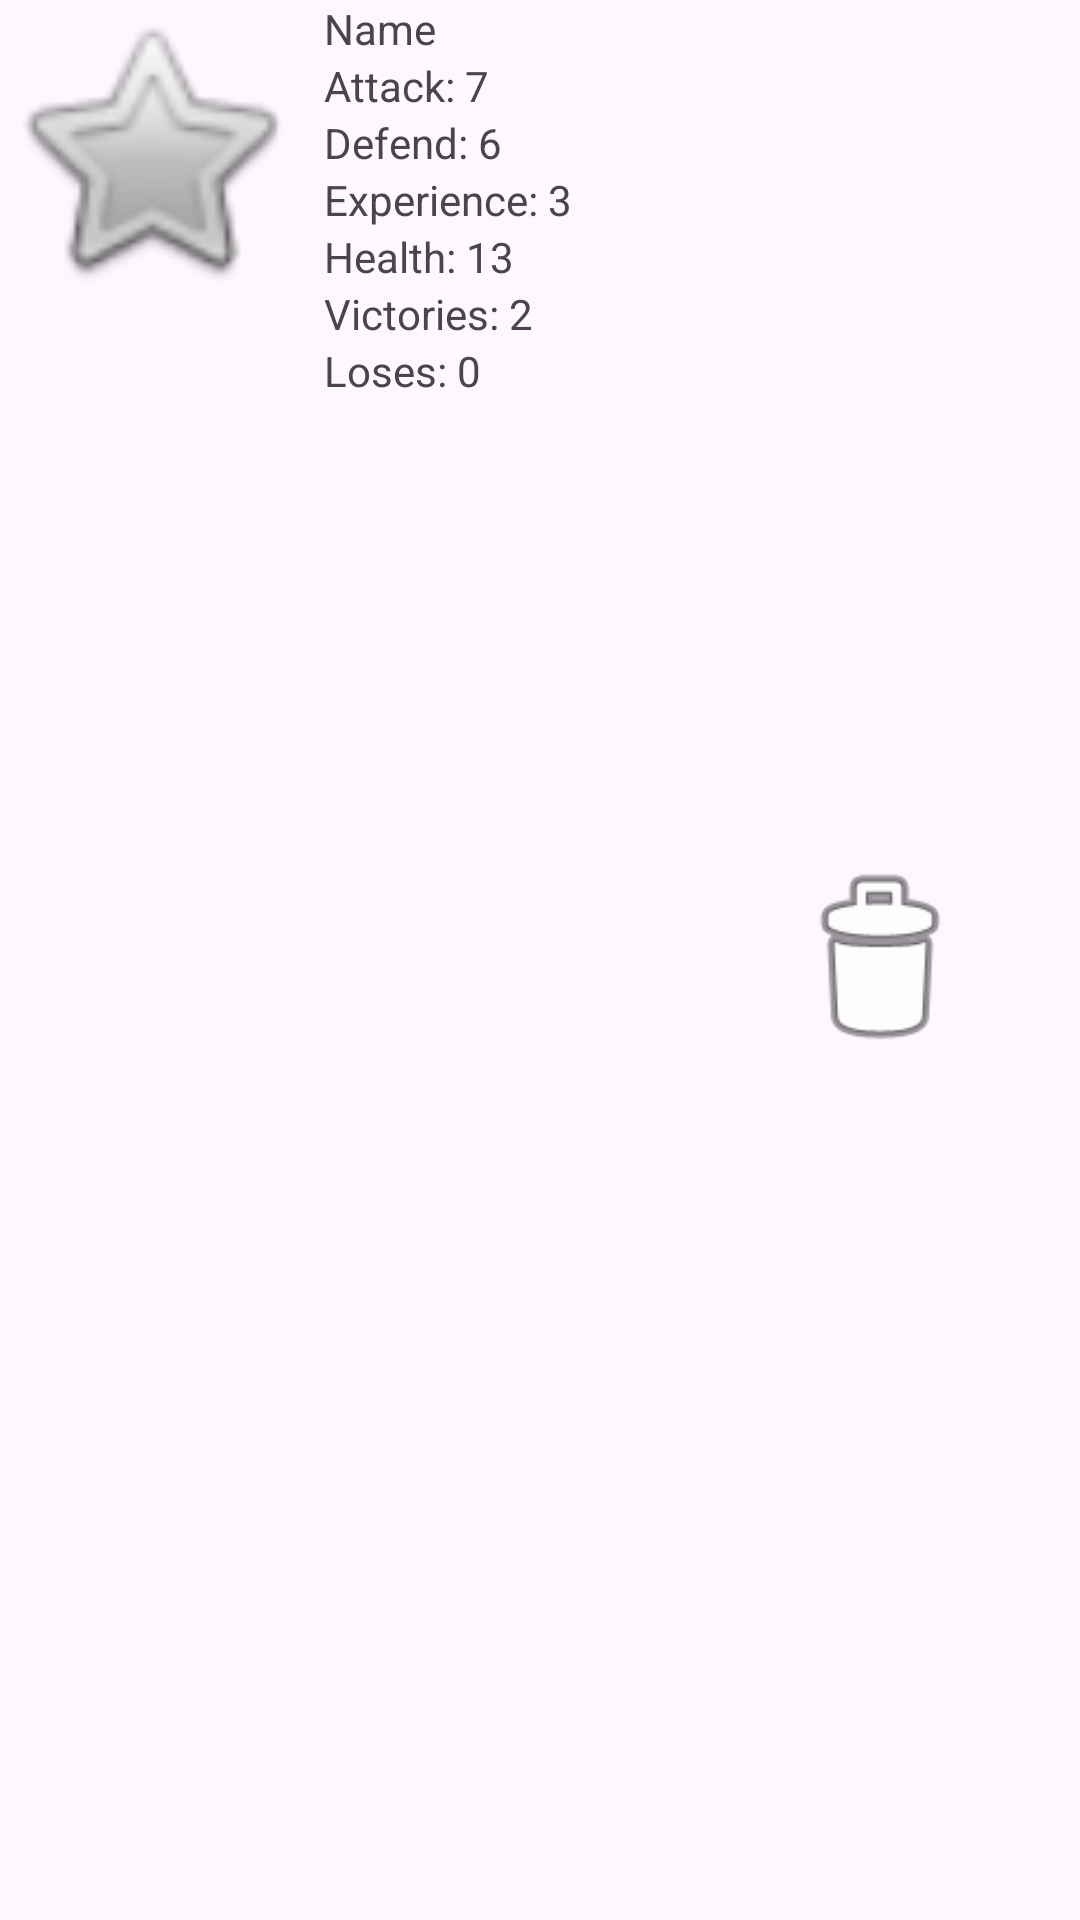

Screen size 1080px×1920px. Icon name, then its box in pixels as (x1,y1,x2,y2):
delete: (820,874,940,1039)
star: (27,30,278,275)
